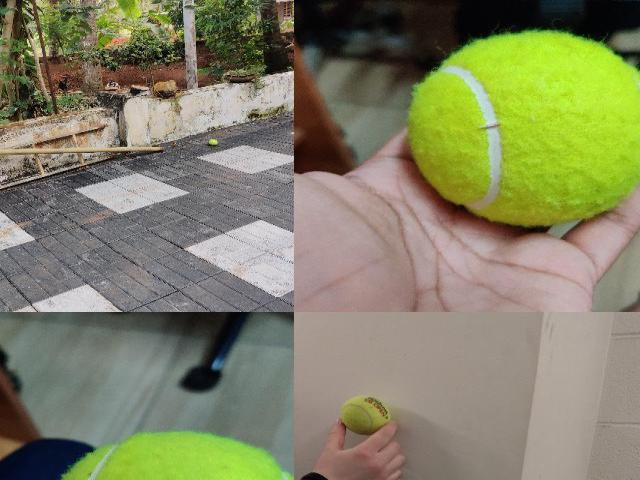tennis-ball: (408, 31, 639, 225), (45, 430, 293, 480), (340, 395, 390, 436), (208, 139, 218, 145)
